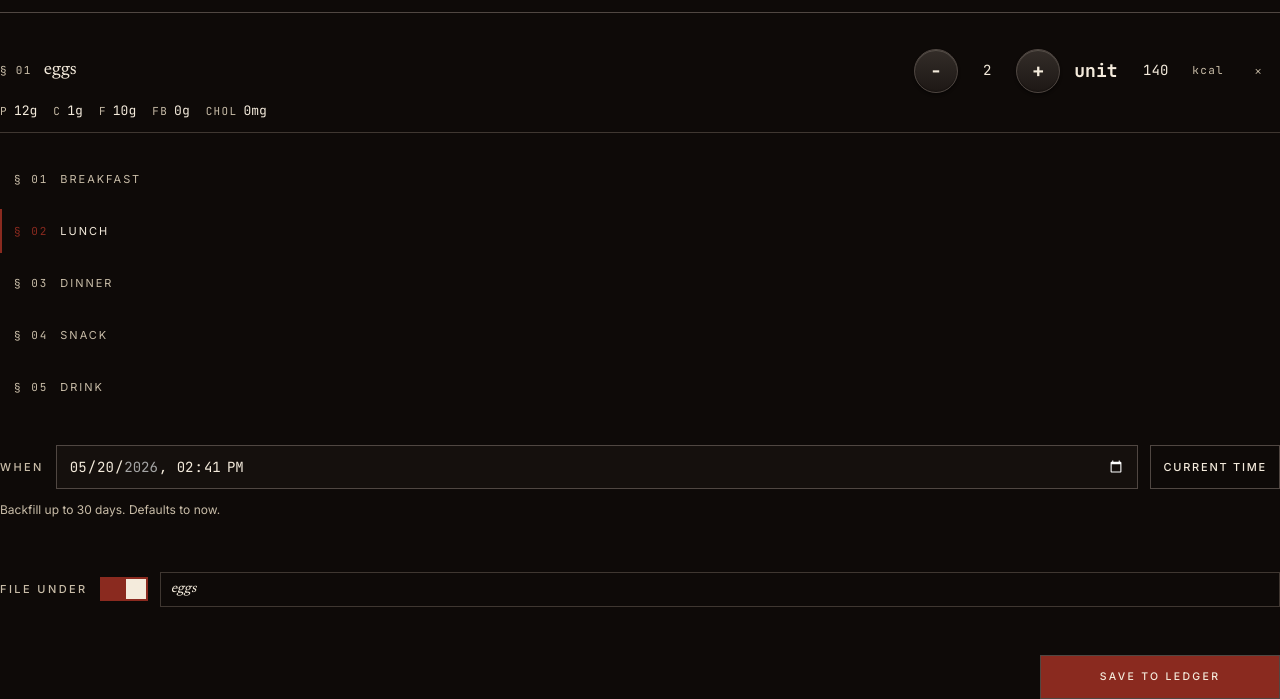
it: <ConfirmationScreen /> › canceling the duplicate confirmation does not retry the save
The image size is (1280, 699).
(page scrolled)
What coordinates should you click on to do the following:
click the button with test id "confirmation-save"
I would click on:
 (1160, 677)
Its box is [1040,655,1279,698].
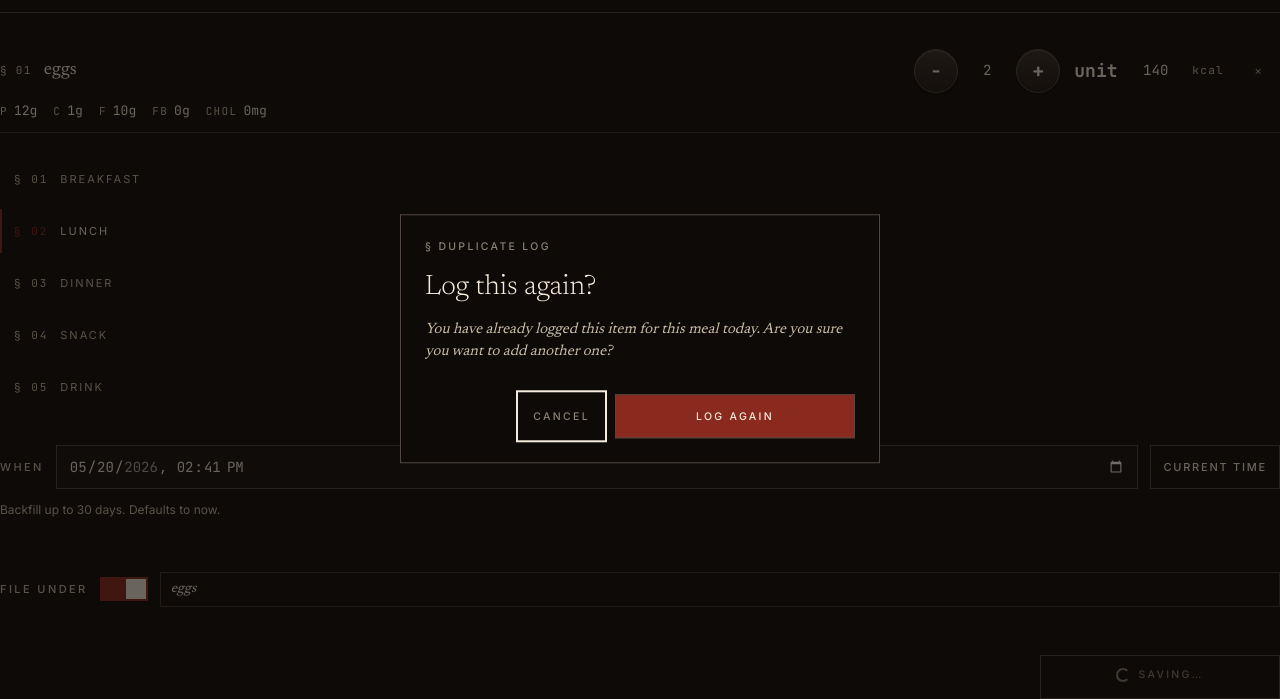
Result: the dialog is shown at [400,214,880,464]
What coordinates should you click on to do the following:
click the button with test id "duplicate-log-cancel"
I would click on:
 (562, 417)
Its box is [520,395,603,439].
(page scrolled)
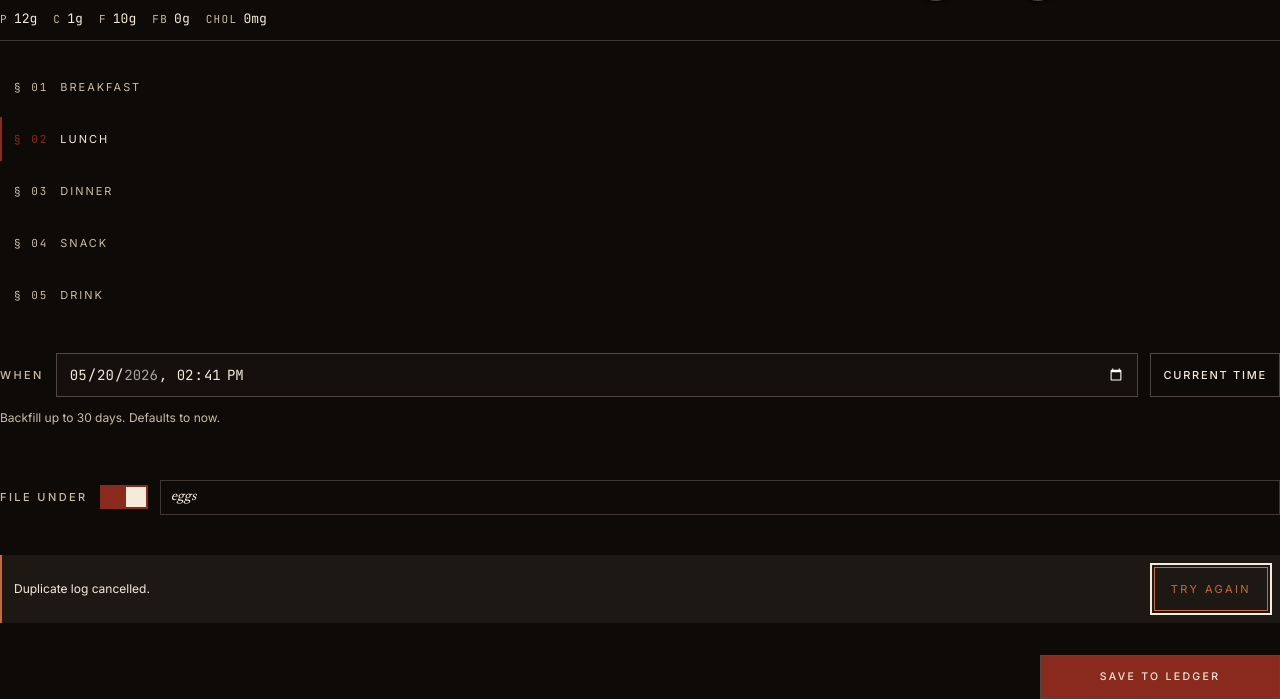
Result: the message "Duplicate log cancelled. TRY AGAIN" is shown at [0,555,1279,623]
